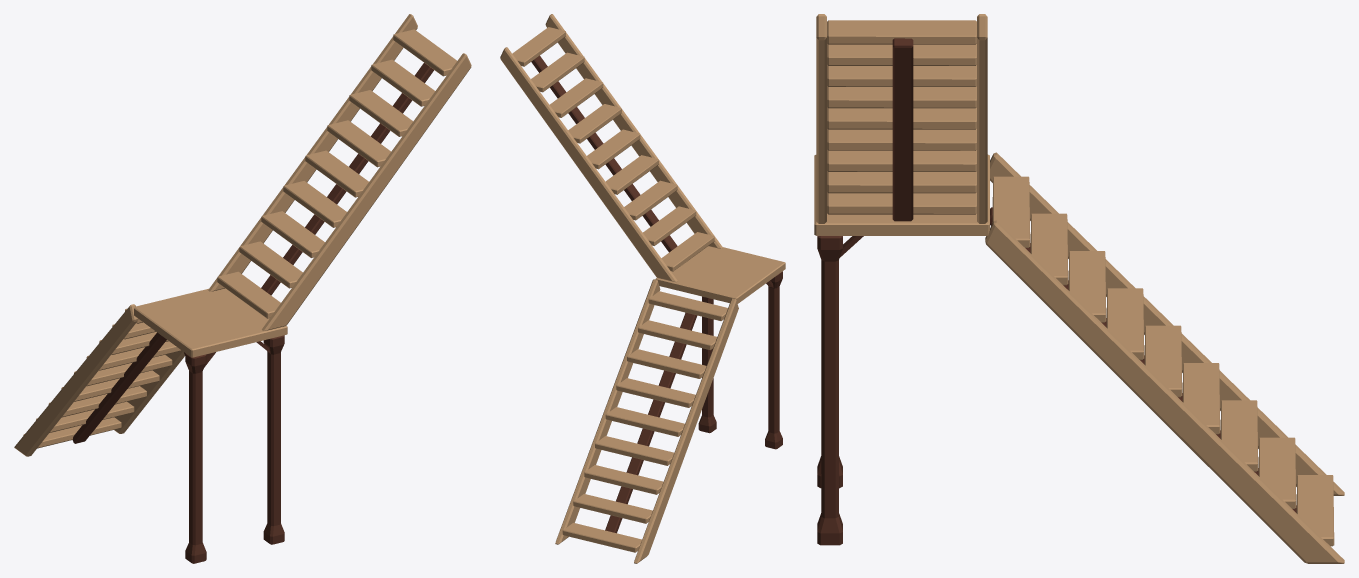
File: Corner Stairs.glb
3 renders of one model, left to right at view 1: azimuth 30°, elevation 25°; view 2: azimuth 150°, elevation 25°; view 3: azimuth 270°, elevation 25°, orthographic. The views are drawn at different scales.
Parts seen in each view (by area): view 1: Corner Stairs; view 2: Corner Stairs; view 3: Corner Stairs.
Boxes of the visible parts, left/top/right/bottom form: Corner Stairs: left=14, top=14, right=471, bottom=563; Corner Stairs: left=500, top=14, right=785, bottom=563; Corner Stairs: left=814, top=14, right=1344, bottom=563.
Size of the model in its own units: 286 by 439 by 310.
